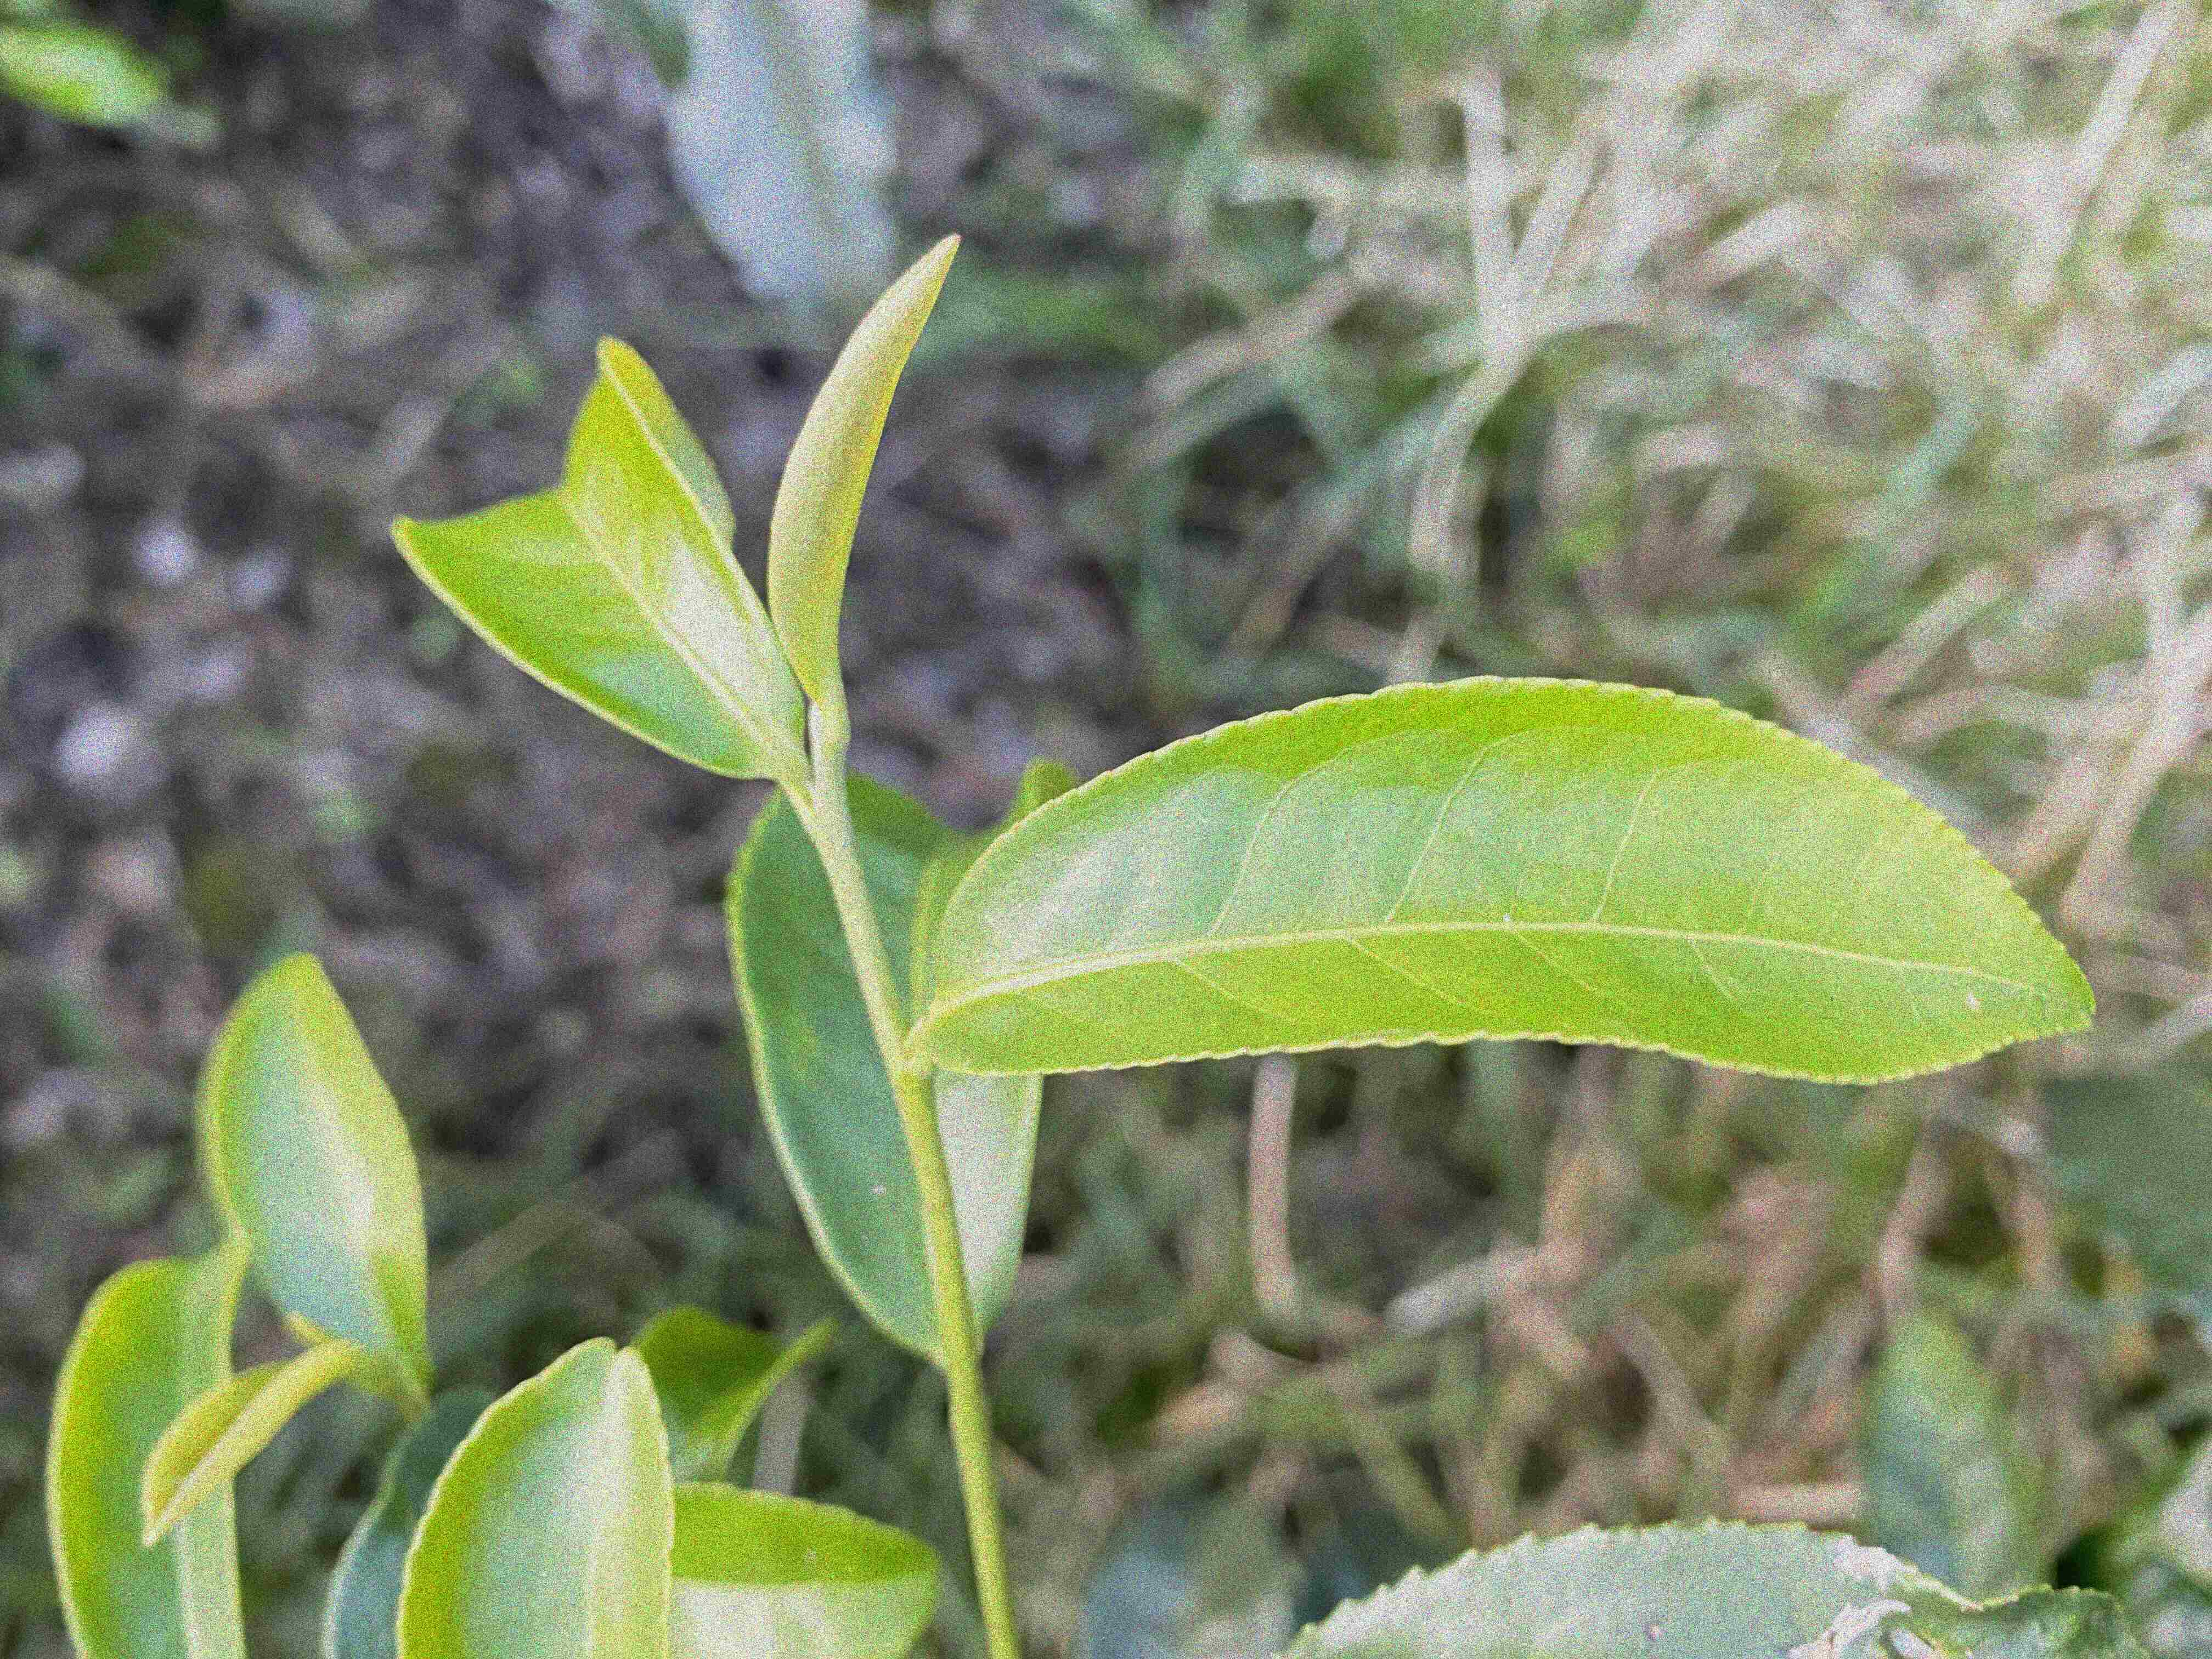healthy: (913, 674, 2095, 1089), (723, 762, 1043, 1361), (195, 950, 437, 1415), (752, 240, 961, 708)
